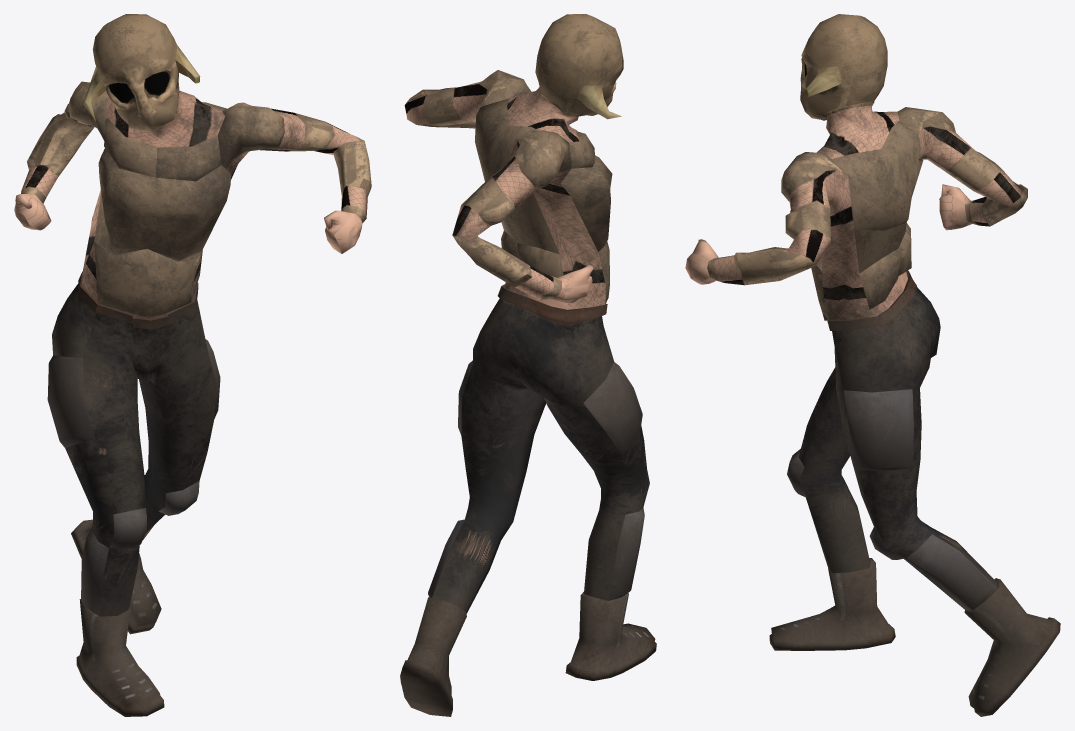
File: Anim_ataque_d3_npc1.0037.obj
3 renders of one model, left to right at view 1: azimuth 30°, elevation 25°; view 2: azimuth 150°, elevation 25°; view 3: azimuth 270°, elevation 25°, orthographic. The views are drawn at different scales.
Parts seen in each view (by area): view 1: NPC2; view 2: NPC2; view 3: NPC2.
Part boxes in pixels (<box>): NPC2: <box>14,14,371,716</box>; NPC2: <box>400,14,656,716</box>; NPC2: <box>685,14,1060,716</box>.
Bounding box in the file's own units: 3.84 × 9.41 × 4.85.
